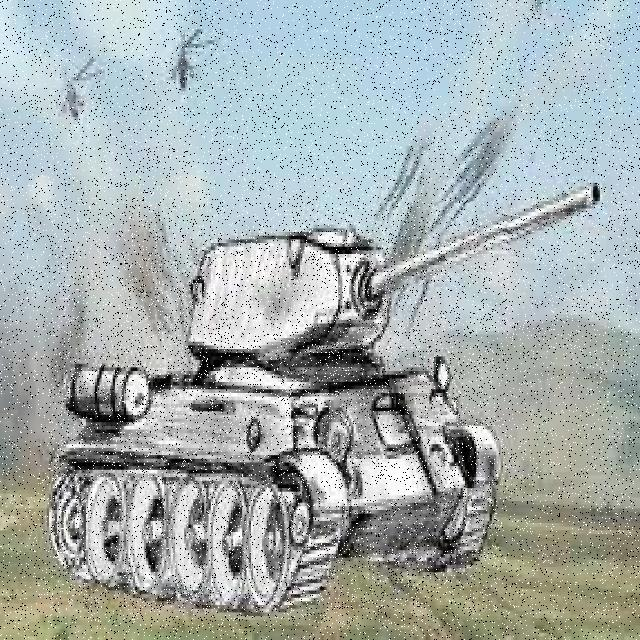MIL_MBT: (51, 203, 507, 622)
